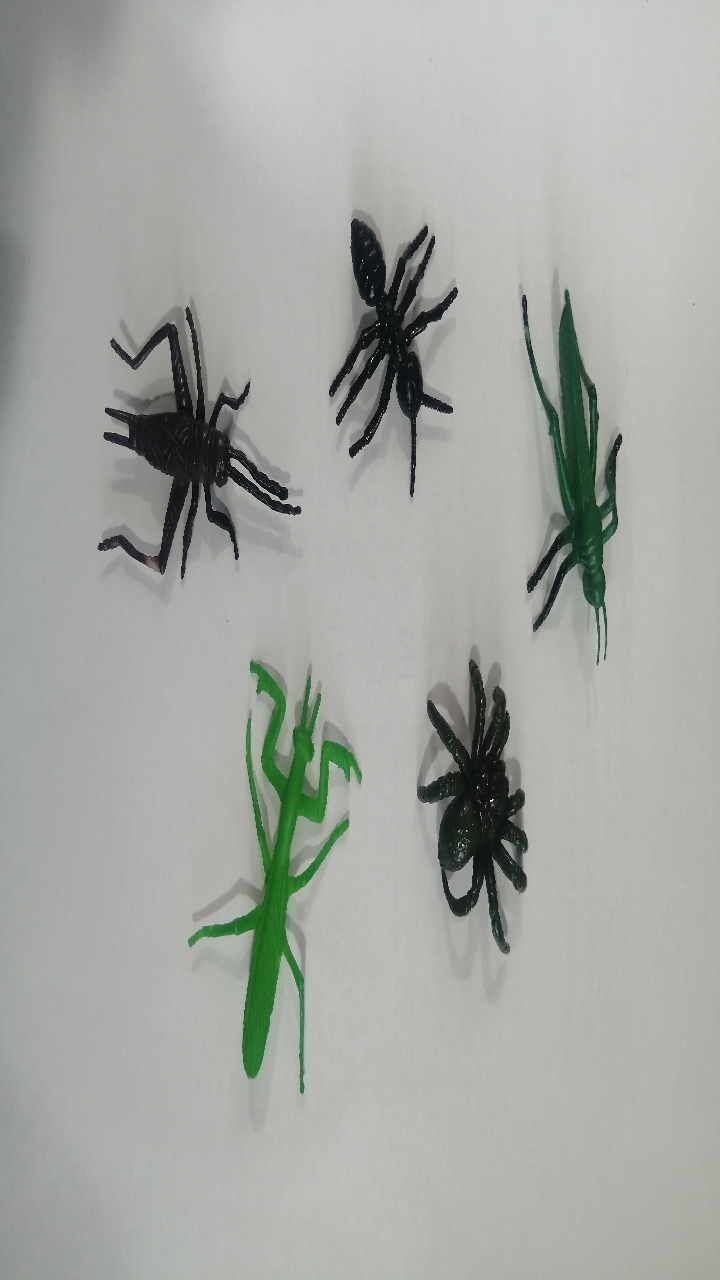intruso: (68, 288, 332, 628), (186, 626, 348, 1114), (491, 249, 651, 669), (388, 643, 575, 972), (291, 174, 468, 515)
